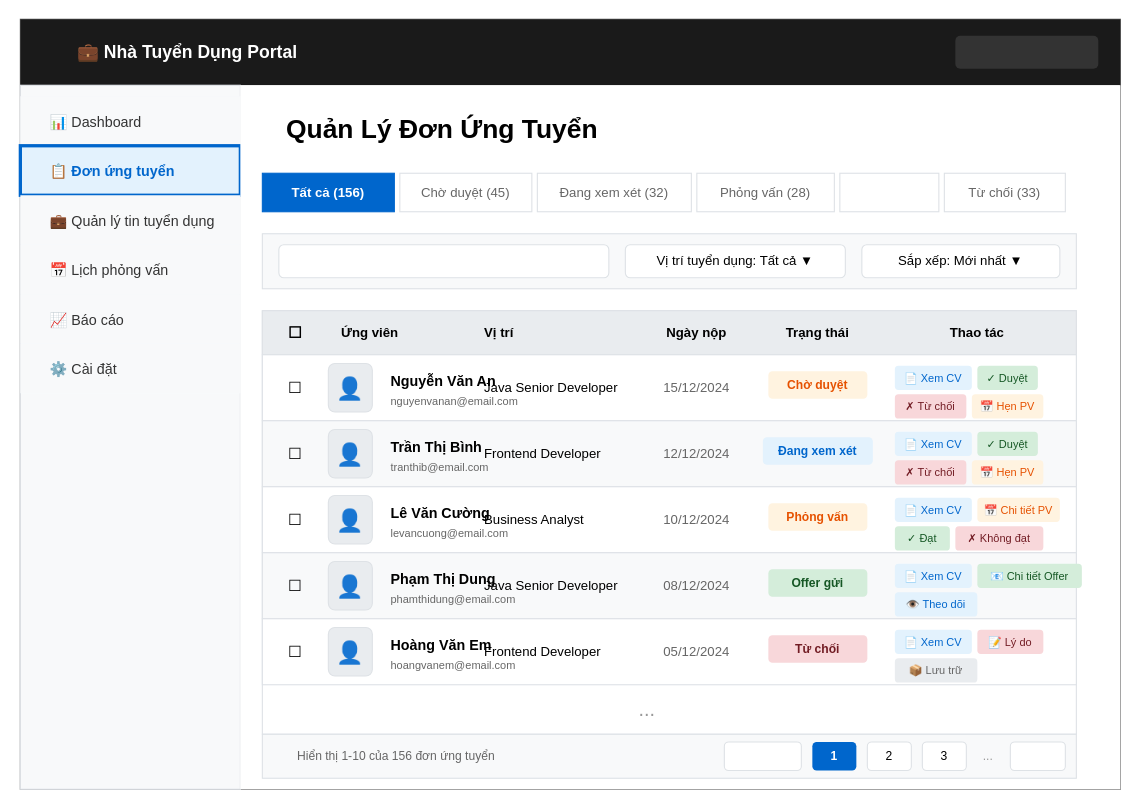
Image size: 1140x809. Some labels were removed from this diagram. Each missing label, with the box of its shape:
Offer (18): (839, 172, 939, 212)
Sau →: (1009, 741, 1065, 771)
← Trước: (723, 741, 801, 771)
👤 Công ty ABC ▼: (955, 35, 1098, 68)
🔍 Tìm theo tên ứng viên, vị trí...: (278, 244, 609, 278)
